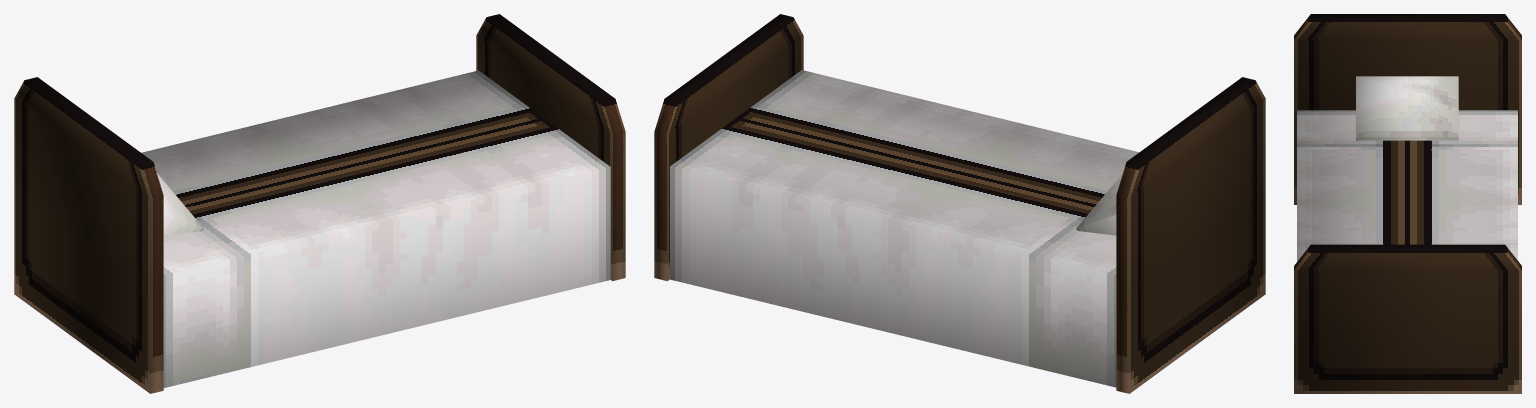
3 renders of one model, left to right at view 1: azimuth 30°, elevation 25°; view 2: azimuth 150°, elevation 25°; view 3: azimuth 270°, elevation 25°, orthographic. The views are drawn at different scales.
Visible parts, largest first — view 1: 3215IMSD01_01; view 2: 3215IMSD01_01; view 3: 3215IMSD01_01.
Boxes of the visible parts, bbox=[...] form: 3215IMSD01_01: bbox=[14, 14, 625, 393]; 3215IMSD01_01: bbox=[654, 14, 1265, 393]; 3215IMSD01_01: bbox=[1294, 14, 1521, 393].
Size of the model in its own units: 1.94 by 0.863 by 0.9602.
2 materials, 2 textured.
